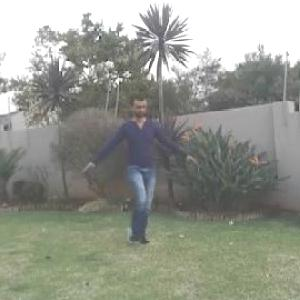land: (87, 92, 199, 235)
